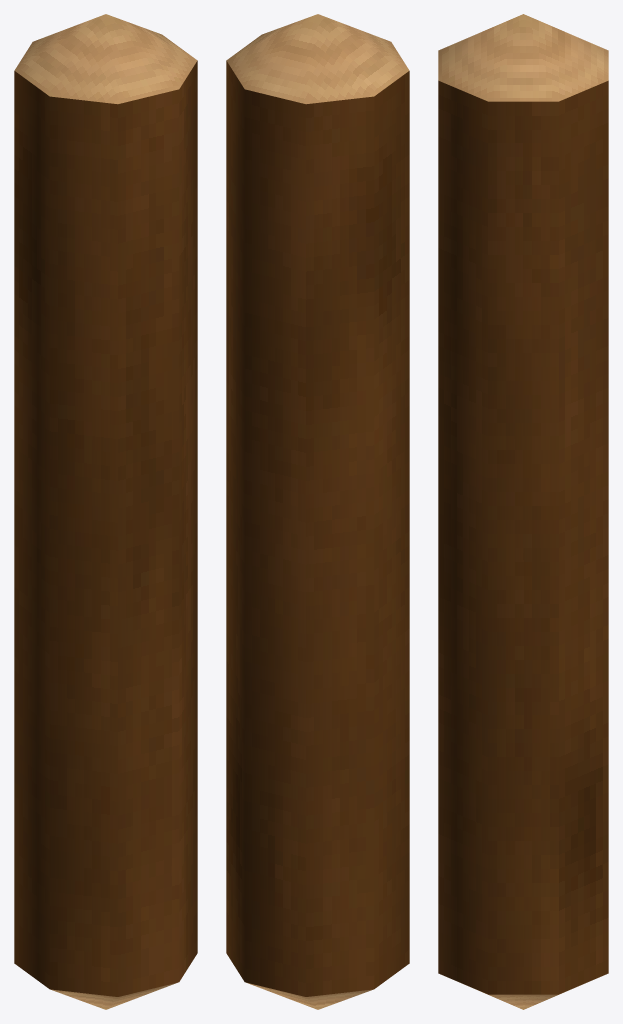
File: Docks_Support_Post_Mid_1x1.glb
3 renders of one model, left to right at view 1: azimuth 30°, elevation 25°; view 2: azimuth 150°, elevation 25°; view 3: azimuth 270°, elevation 25°, orthographic.
Parts seen in each view (by area): view 1: Docks_Support_Post_Mid_1x1; view 2: Docks_Support_Post_Mid_1x1; view 3: Docks_Support_Post_Mid_1x1.
Boxes of the visible parts, x1,y1,x2,y2 form: Docks_Support_Post_Mid_1x1: (14, 14, 197, 1009); Docks_Support_Post_Mid_1x1: (226, 14, 409, 1009); Docks_Support_Post_Mid_1x1: (438, 14, 608, 1009).
Size of what is drawn, in the model's own units: 17.32 by 112 by 17.32.
2 materials, 2 textured.
